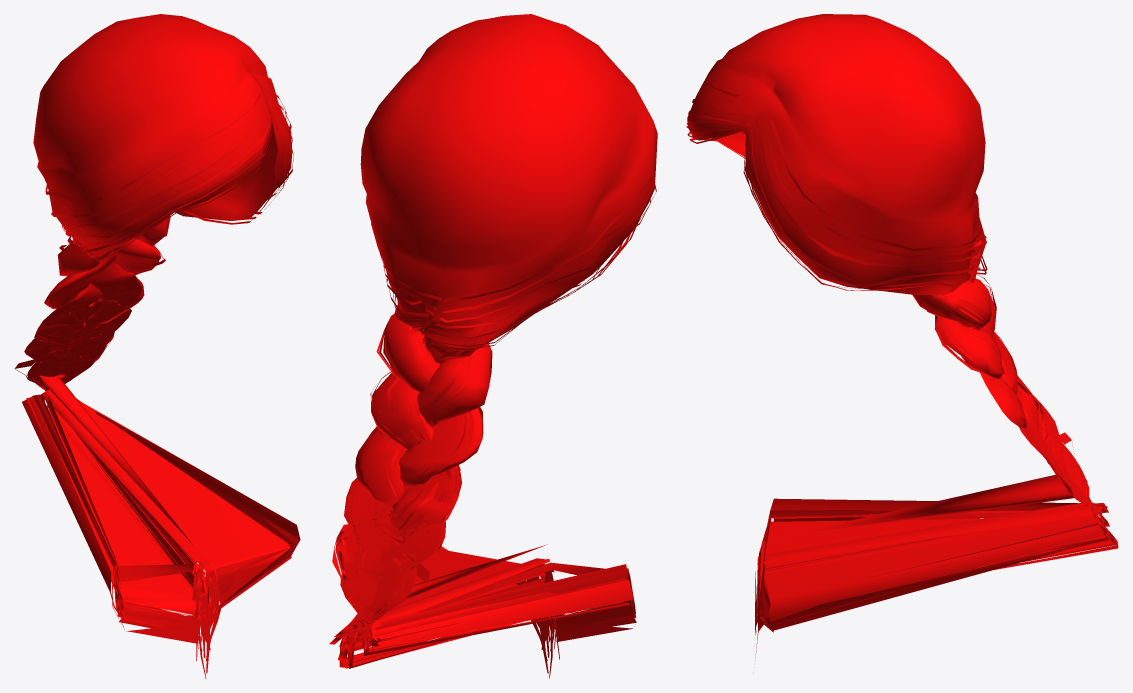
Rendered from braid01_M.glb.
3 renders of one model, left to right at view 1: azimuth 30°, elevation 25°; view 2: azimuth 150°, elevation 25°; view 3: azimuth 270°, elevation 25°, orthographic. The views are drawn at different scales.
Bounding box in the file's own units: 0.209 × 0.5865 × 0.352.
Materials: 1 (1 with a texture image).
